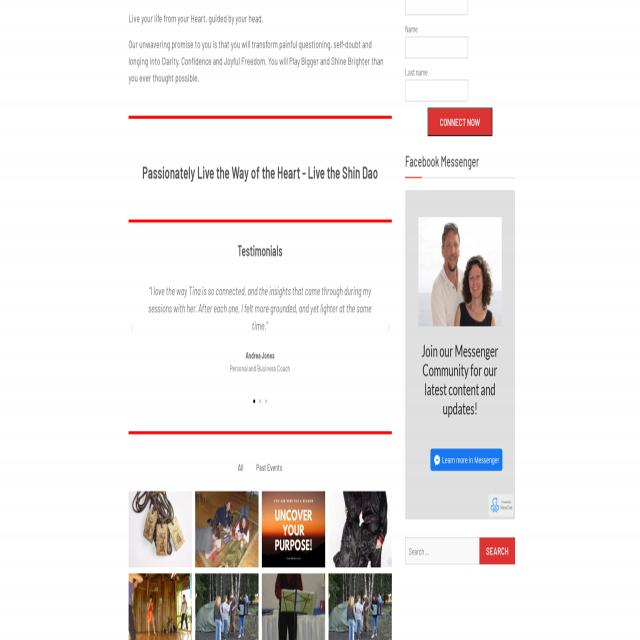button: (418, 218, 502, 326), (128, 491, 192, 568), (195, 491, 259, 568), (261, 491, 325, 568), (328, 491, 392, 568), (328, 571, 391, 640), (195, 573, 259, 640), (261, 573, 325, 640), (128, 573, 192, 640), (428, 108, 492, 136), (431, 448, 502, 471), (480, 538, 515, 564), (489, 493, 513, 518), (264, 398, 269, 405), (258, 398, 262, 405), (252, 398, 256, 405)
field: (405, 538, 515, 564), (405, 80, 468, 101), (405, 37, 468, 58), (405, 0, 468, 15)
